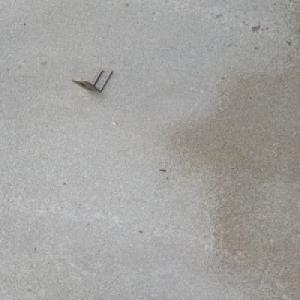MetalPart: (71, 68, 113, 92)
